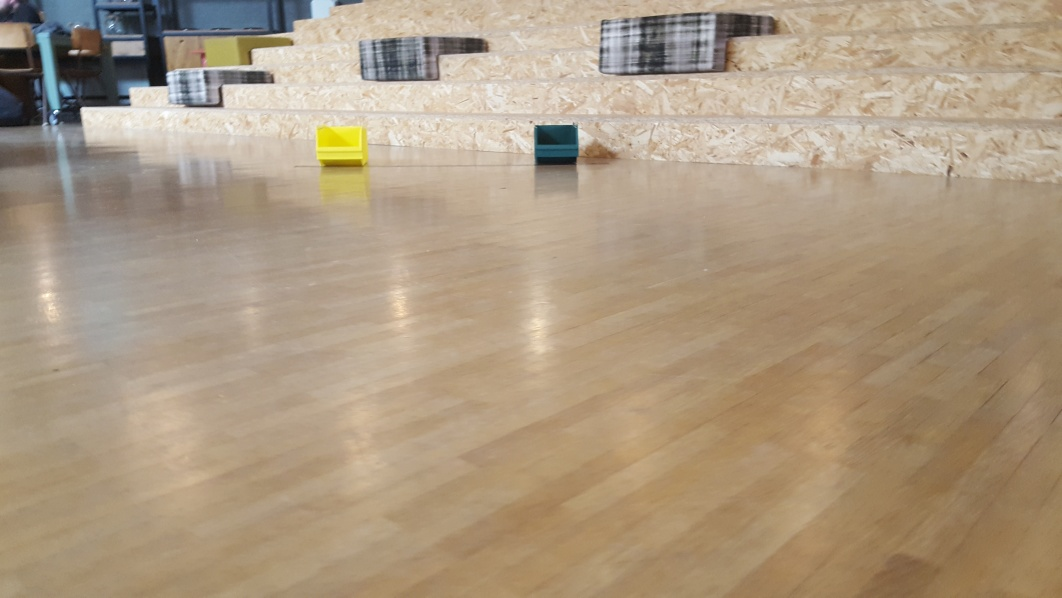tray: (312, 119, 371, 171), (527, 121, 584, 163)
